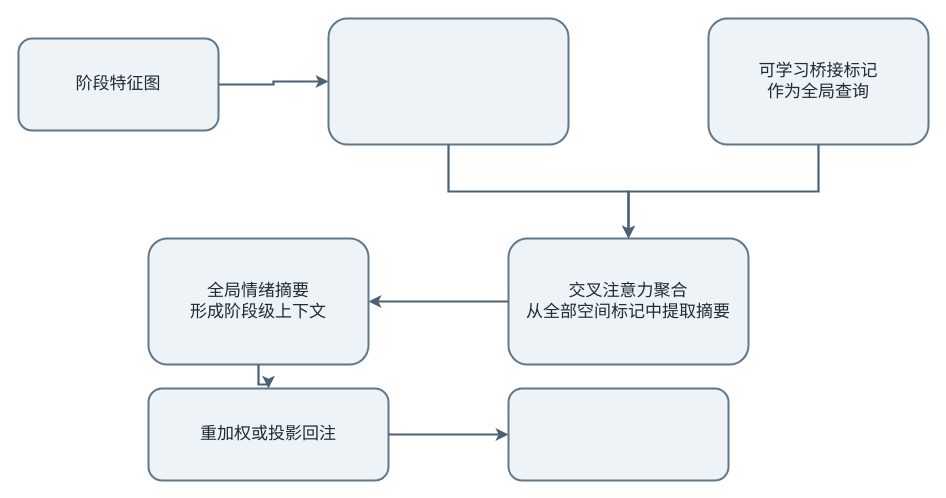
Some shapes in this 946 by 498 pixel diagram are drawn without their labels. Each missing label, with the centre of its shape:
展平为空间标记 保留局部窗口编码后的特征: point 448,81
更新后的阶段表示: point 618,434
